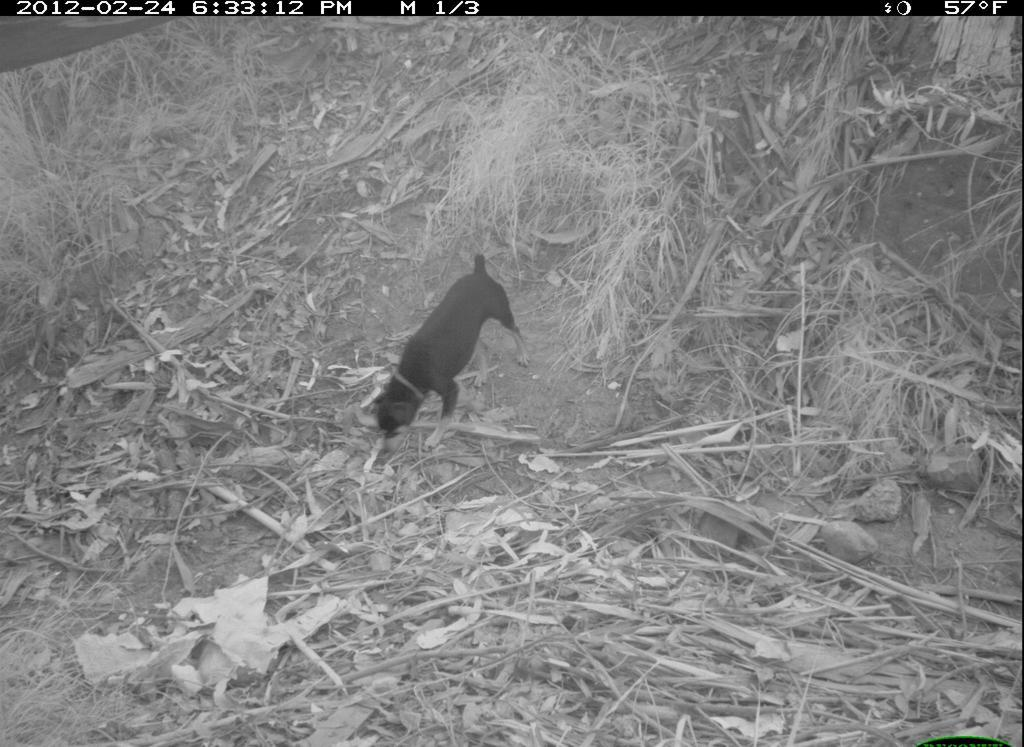dog: (361, 237, 550, 457)
